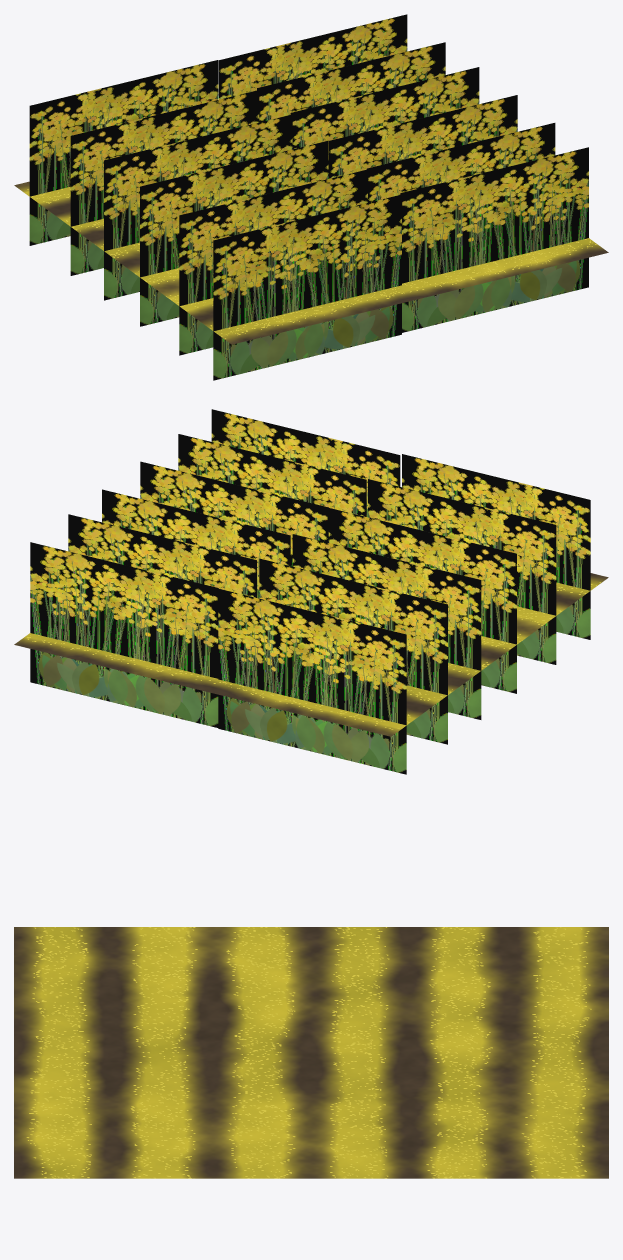
The model's file is Crop_Rapeseed_1.gltf.
The picture shows the model from 3 angles, top to bottom: view 1: azimuth 30°, elevation 25°; view 2: azimuth 150°, elevation 25°; view 3: azimuth 270°, elevation 25°; orthographic projection. The views are drawn at different scales.
Parts seen in each view (by area): view 1: Crop_Rapeseed_1; view 2: Crop_Rapeseed_1; view 3: Crop_Rapeseed_1.
Boxes of the visible parts, bbox=[...] form: Crop_Rapeseed_1: bbox=[14, 14, 608, 380]; Crop_Rapeseed_1: bbox=[14, 409, 608, 774]; Crop_Rapeseed_1: bbox=[14, 927, 608, 1178].
Bounding box in the file's own units: 4 × 1.42 × 4.
2 materials, 2 textured.
